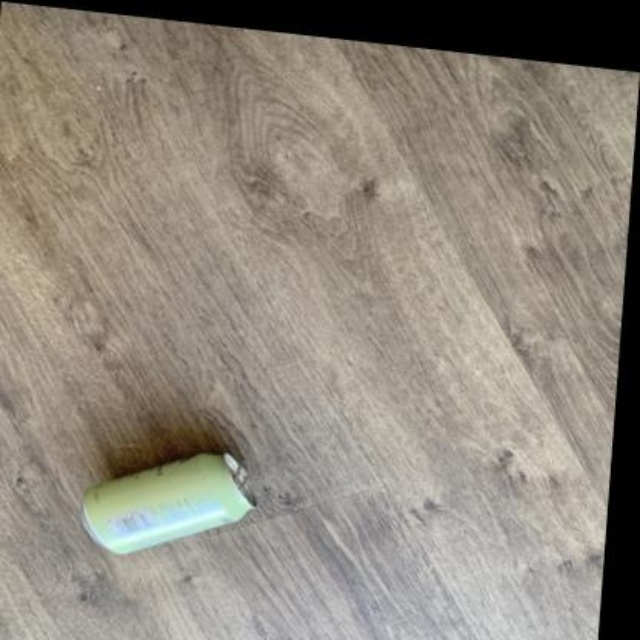trash: (83, 454, 251, 552)
